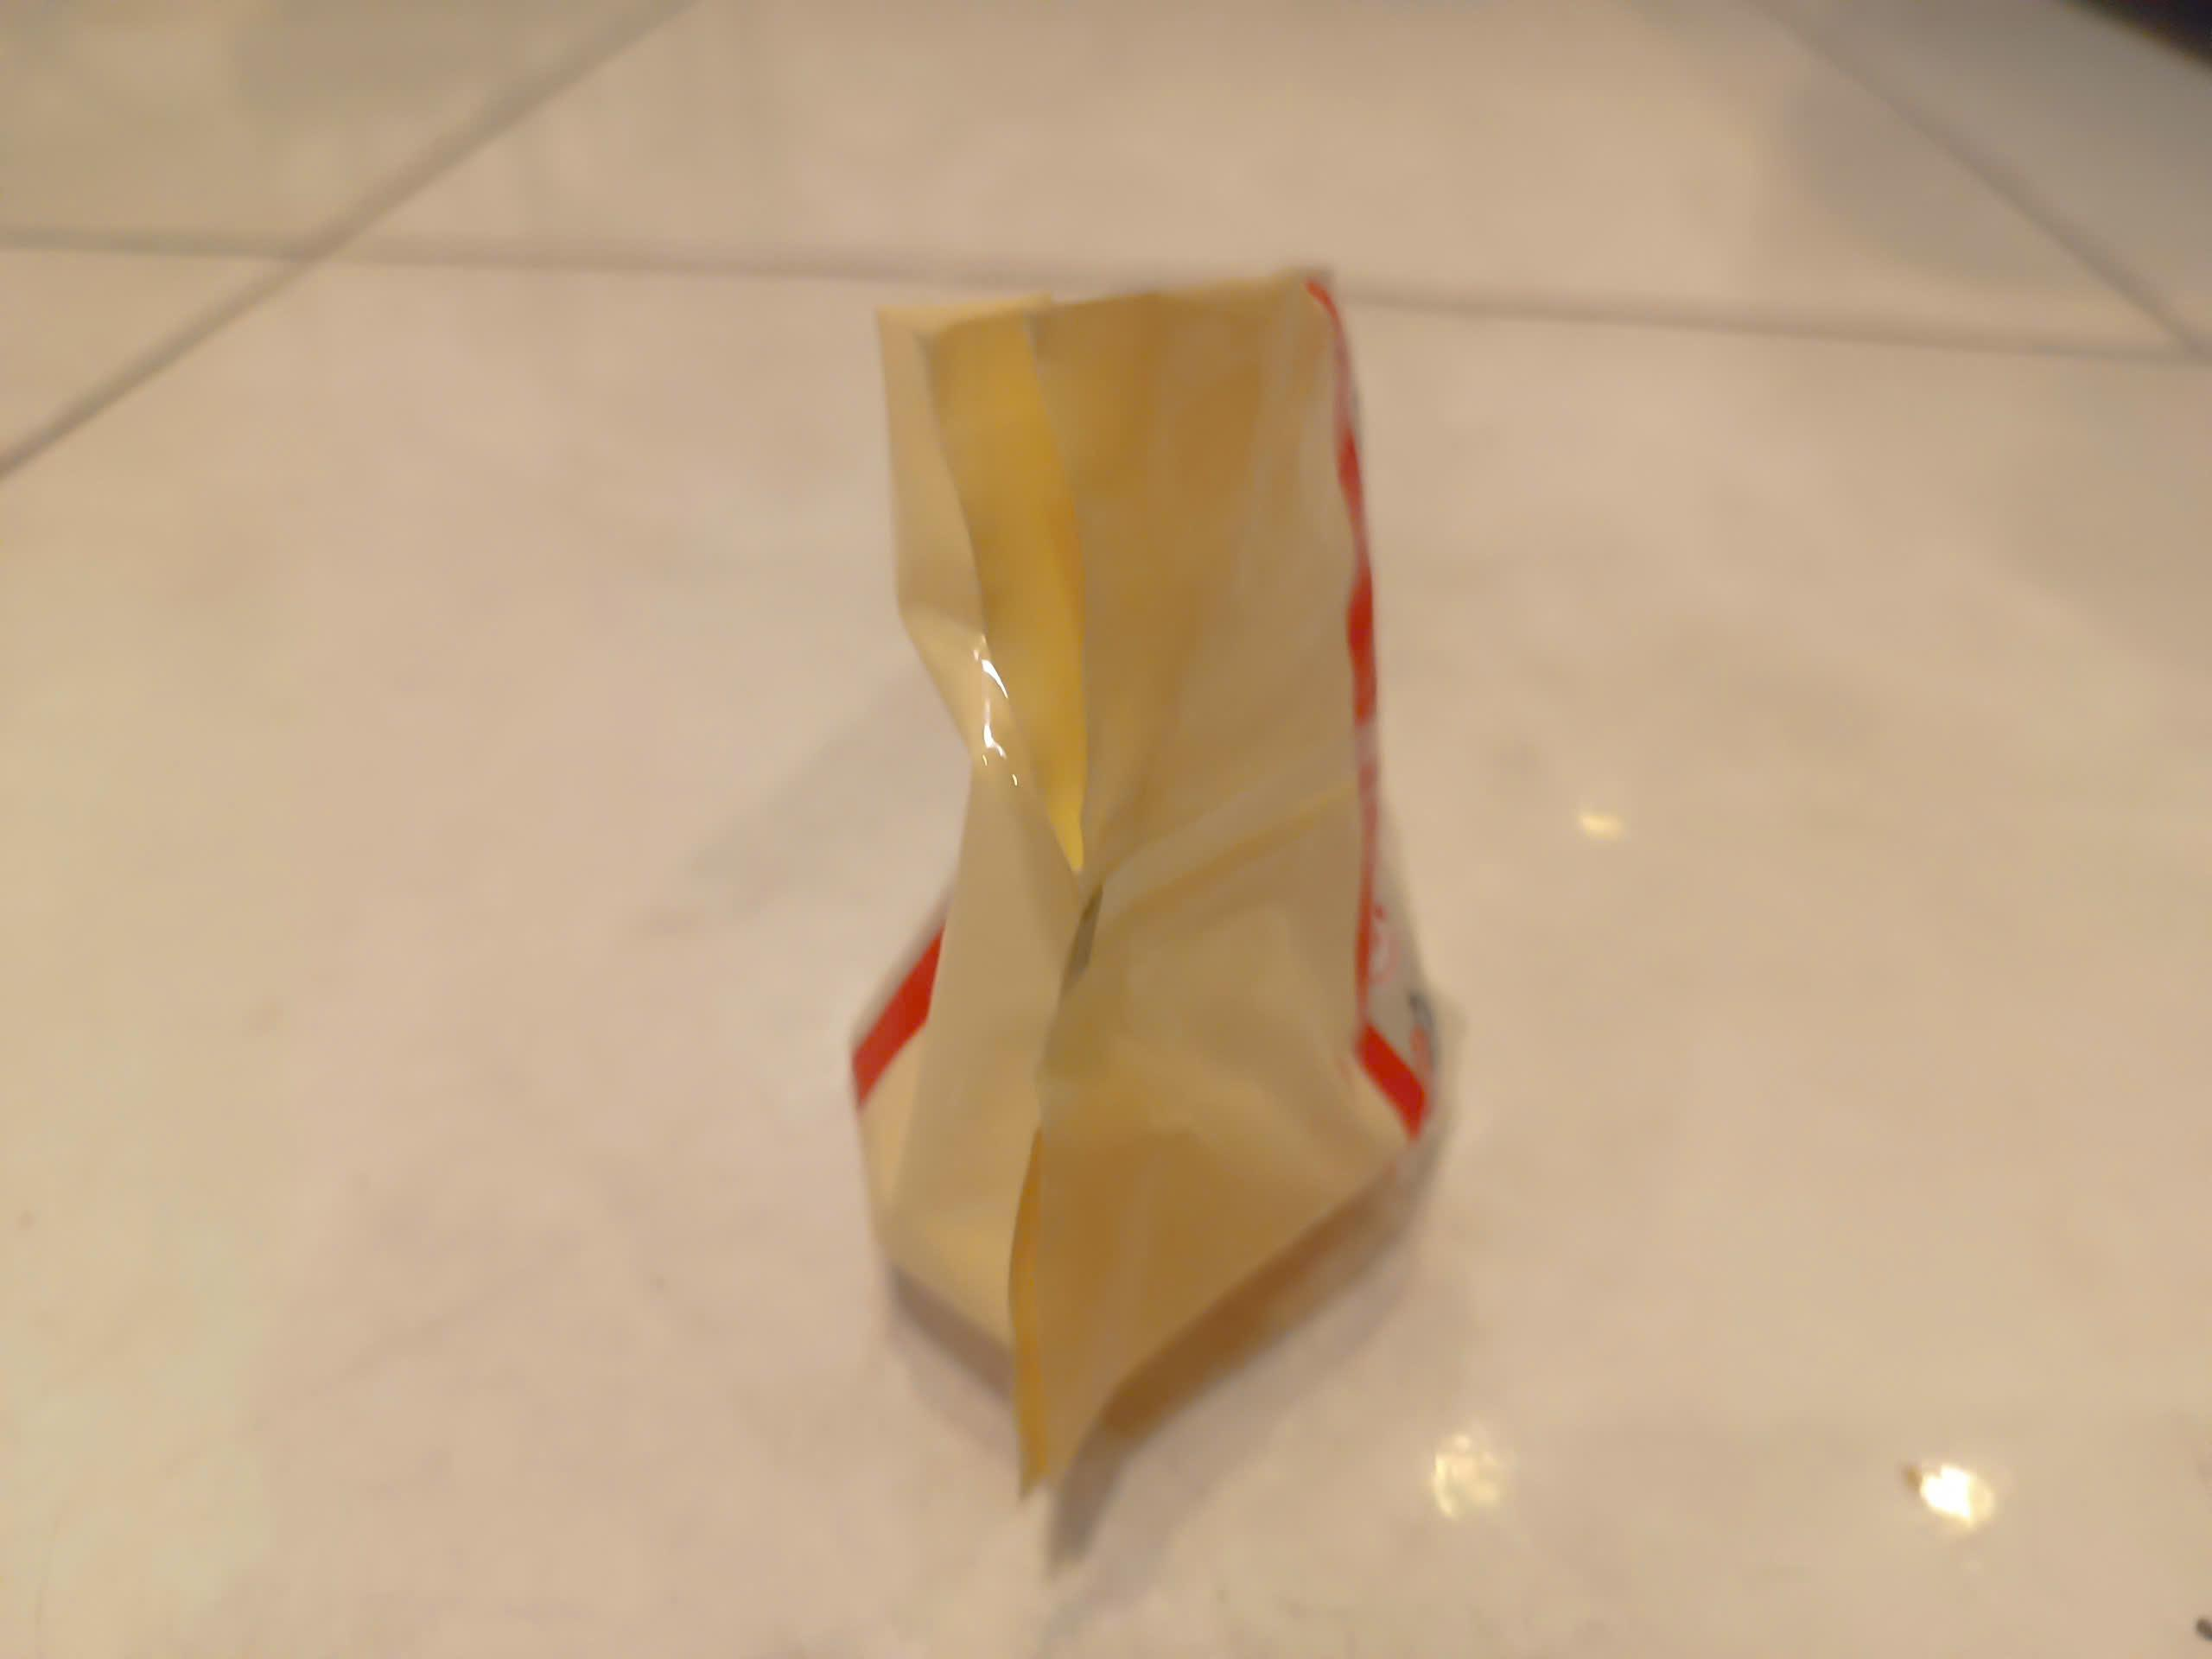Vo co: (859, 260, 1439, 1507)
